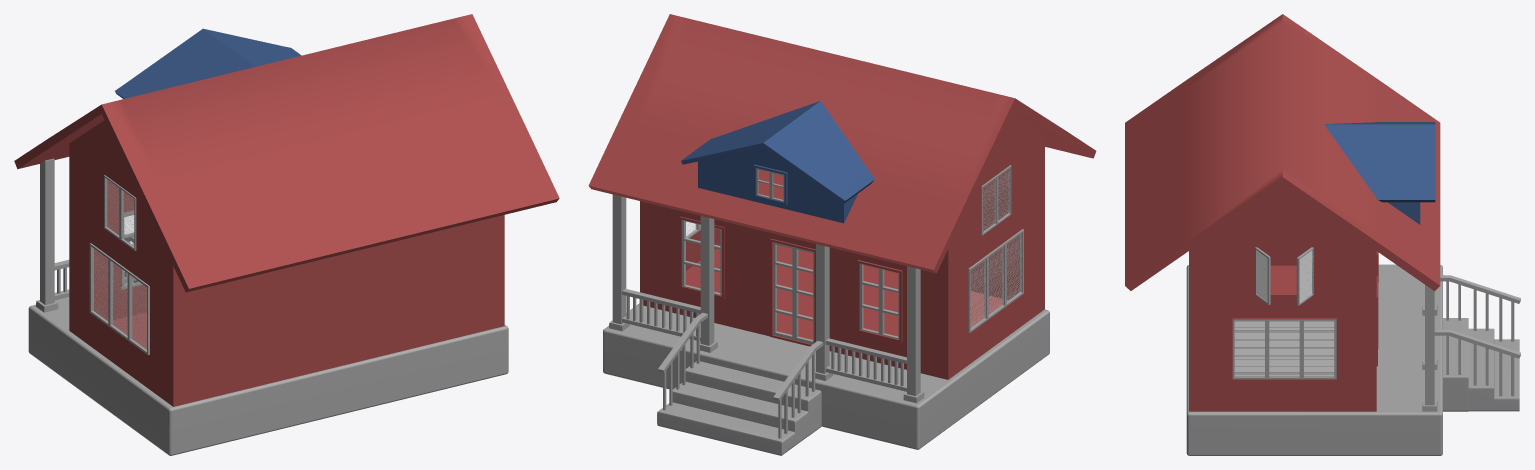
File: house_city.fbx
3 views of the same model, side by side, from view 1: azimuth 30°, elevation 25°; view 2: azimuth 150°, elevation 25°; view 3: azimuth 270°, elevation 25° (orthographic). The views are drawn at different scales.
Visible parts, largest first — view 1: pasted__pCube189; view 2: pasted__pCube189; view 3: pasted__pCube189.
Boxes of the visible parts, <box> form: pasted__pCube189: <box>14,14,559,455</box>; pasted__pCube189: <box>588,14,1096,455</box>; pasted__pCube189: <box>1125,14,1520,455</box>.
Size of the model in its own units: 108231 by 87293 by 109236.
